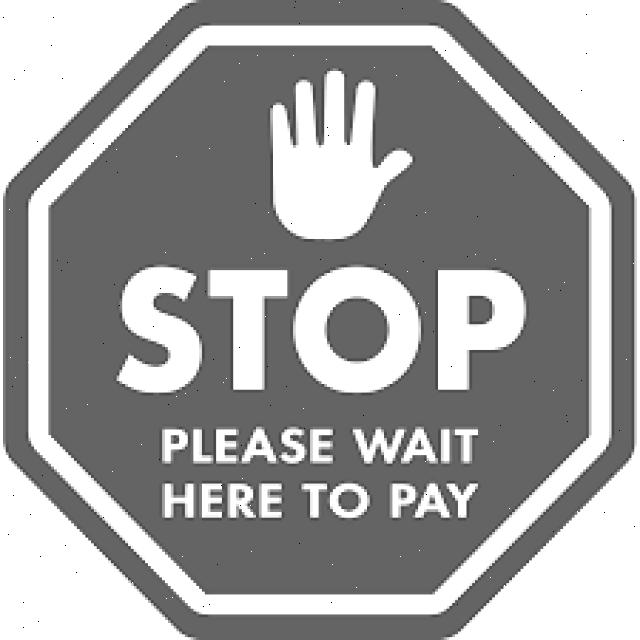stop sign: (6, 0, 638, 634)
